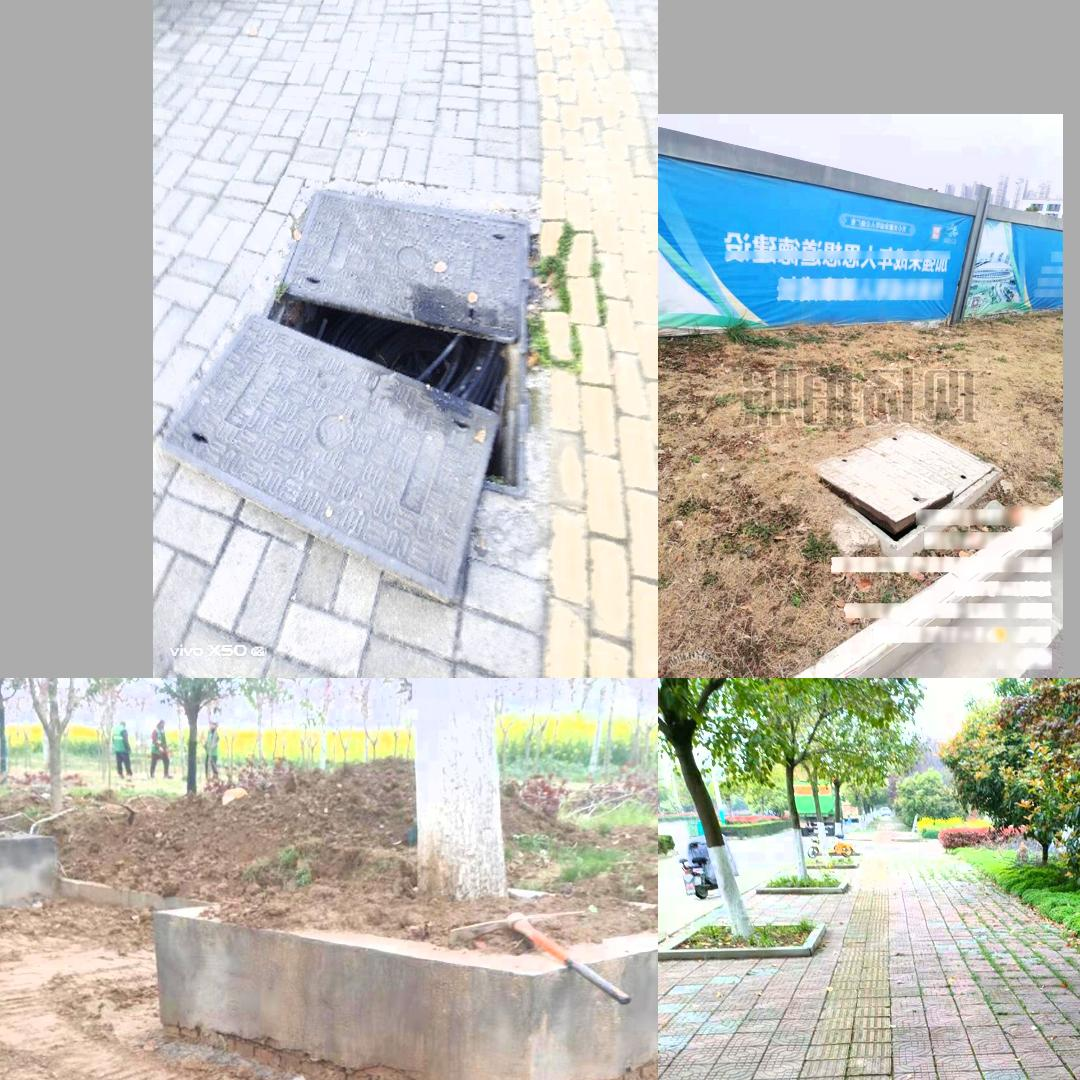uncovered: (165, 183, 531, 613), (809, 422, 1004, 545)
